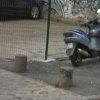Motorcycle: (59, 14, 100, 74)
